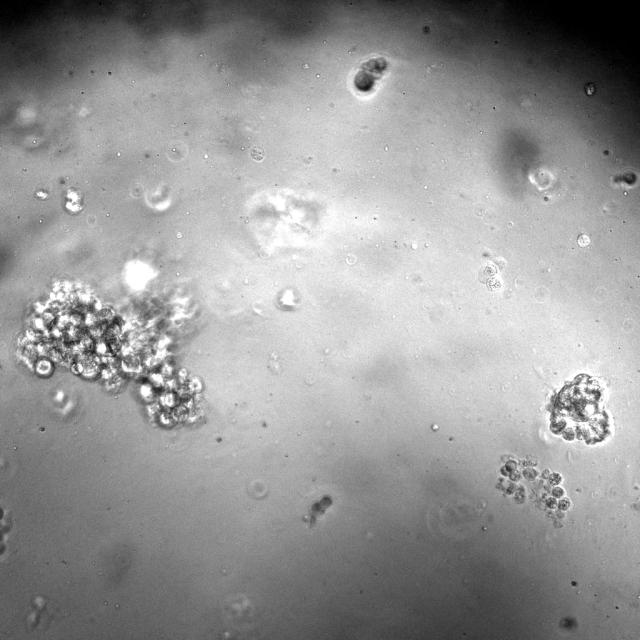organoid: (16, 281, 203, 428), (494, 453, 572, 528), (542, 373, 612, 445), (353, 55, 388, 96), (478, 257, 506, 292), (302, 495, 332, 527), (62, 187, 84, 215), (0, 505, 12, 554), (610, 168, 639, 188), (249, 145, 265, 162), (559, 617, 577, 629), (576, 233, 590, 248), (584, 81, 596, 96), (571, 581, 577, 587)
